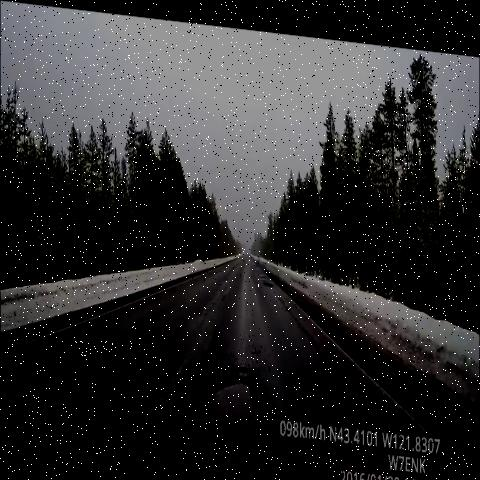pothole: (202, 347, 272, 450), (256, 261, 276, 291)
